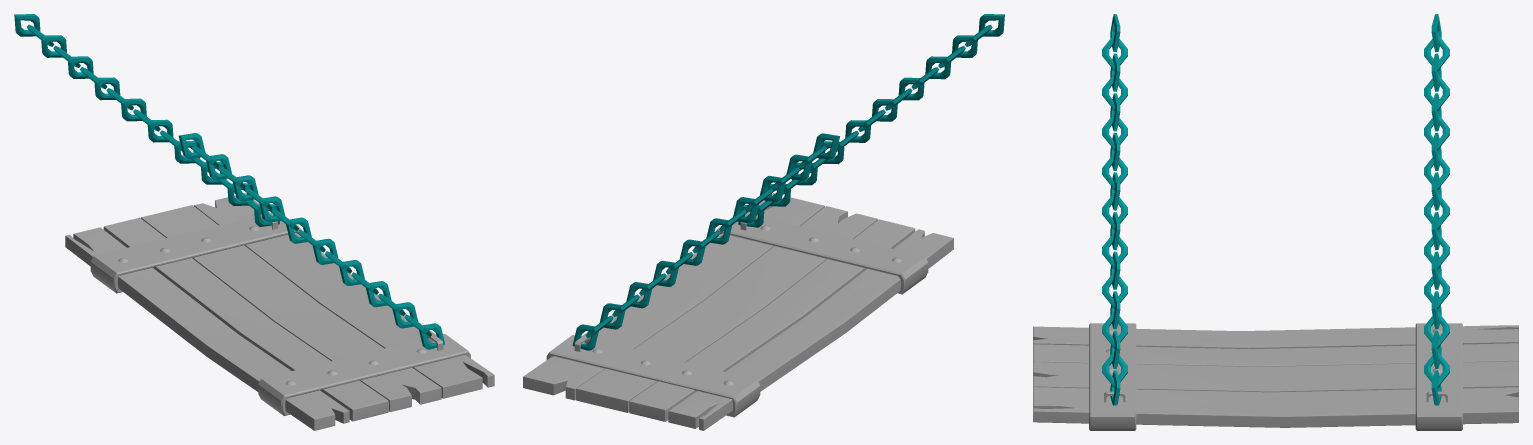
Rendered from Cama Carcel.fbx.
The picture shows the model from 3 angles, left to right: view 1: azimuth 30°, elevation 25°; view 2: azimuth 150°, elevation 25°; view 3: azimuth 270°, elevation 25°; orthographic projection. The views are drawn at different scales.
Visible parts, largest first — view 1: Cama_carcel; view 2: Cama_carcel; view 3: Cama_carcel.
Part boxes in pixels (x1,y1,x2,y2): Cama_carcel: (14,14,494,430); Cama_carcel: (523,14,1004,430); Cama_carcel: (1033,14,1518,430).
Bounding box in the file's own units: 4.09 × 4.11 × 6.33.
